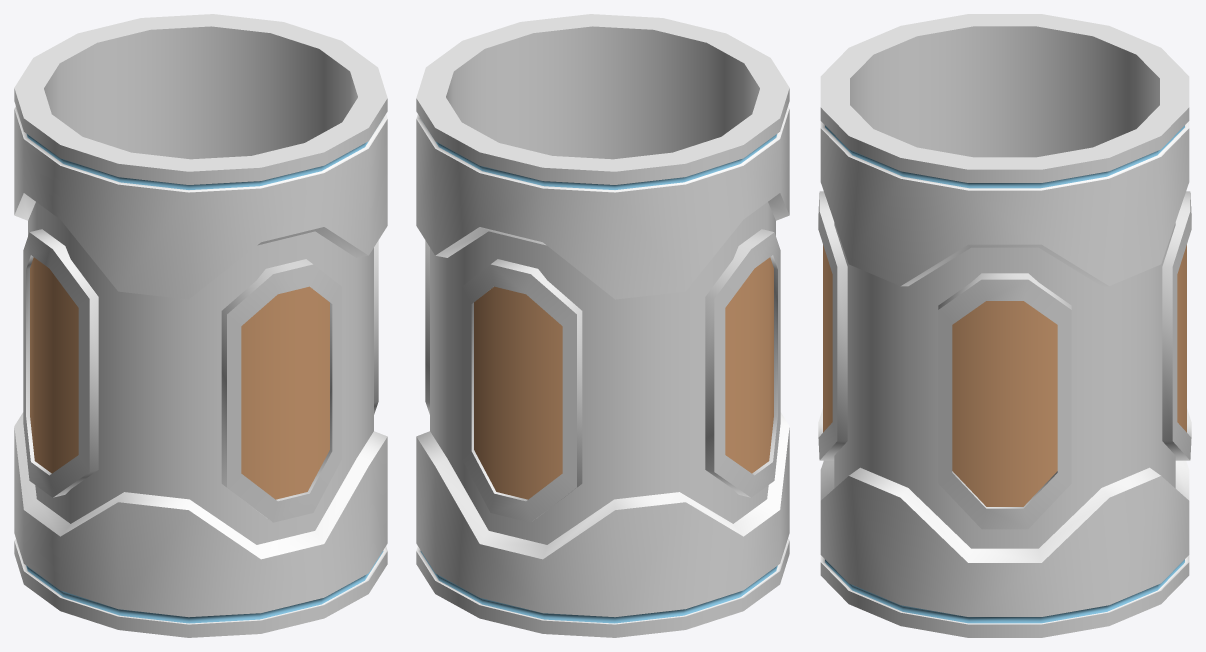
The model's file is Props_Capsule.005.fbx.
3 views of the same model, side by side, from view 1: azimuth 30°, elevation 25°; view 2: azimuth 150°, elevation 25°; view 3: azimuth 270°, elevation 25° (orthographic).
Parts seen in each view (by area): view 1: Props_Capsule.005; view 2: Props_Capsule.005; view 3: Props_Capsule.005.
Part boxes in pixels (box(x1,y1,x2,y2)): Props_Capsule.005: box(14, 14, 387, 637); Props_Capsule.005: box(416, 14, 789, 637); Props_Capsule.005: box(818, 14, 1191, 637).
Bounding box in the file's own units: 0.8693 × 1.2 × 0.8693.
